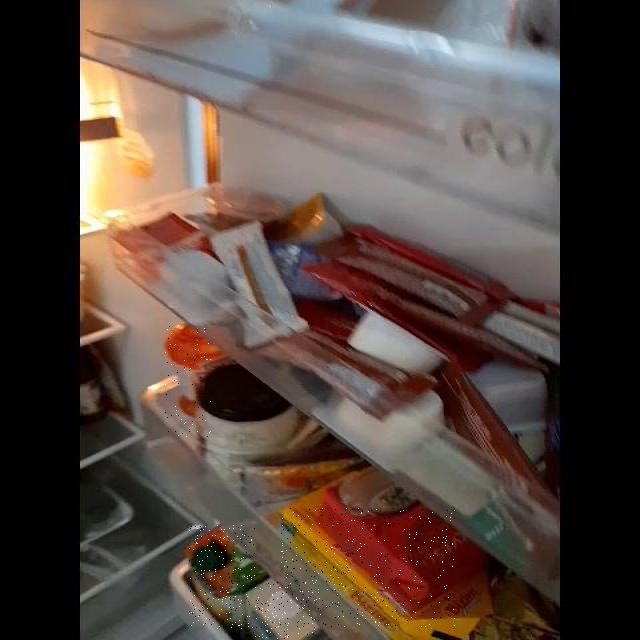butter: (280, 508, 455, 628)
juice: (189, 525, 255, 629)
milk: (245, 581, 316, 640)
sauce: (165, 325, 212, 437)
